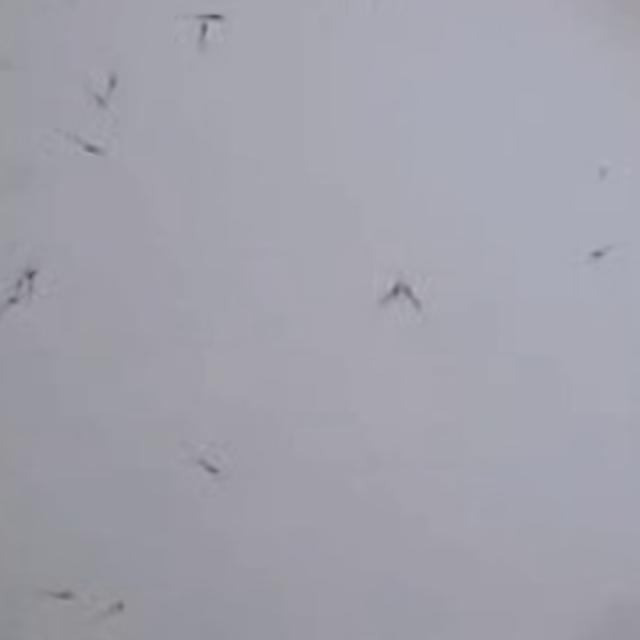shrimp-seed: (187, 448, 244, 508), (391, 265, 446, 320), (180, 22, 236, 76), (34, 576, 104, 616), (22, 255, 70, 308), (563, 232, 634, 266), (71, 120, 117, 166), (0, 284, 31, 328), (81, 596, 129, 622), (372, 282, 406, 317), (187, 0, 231, 27), (84, 82, 124, 108), (101, 68, 126, 88)
